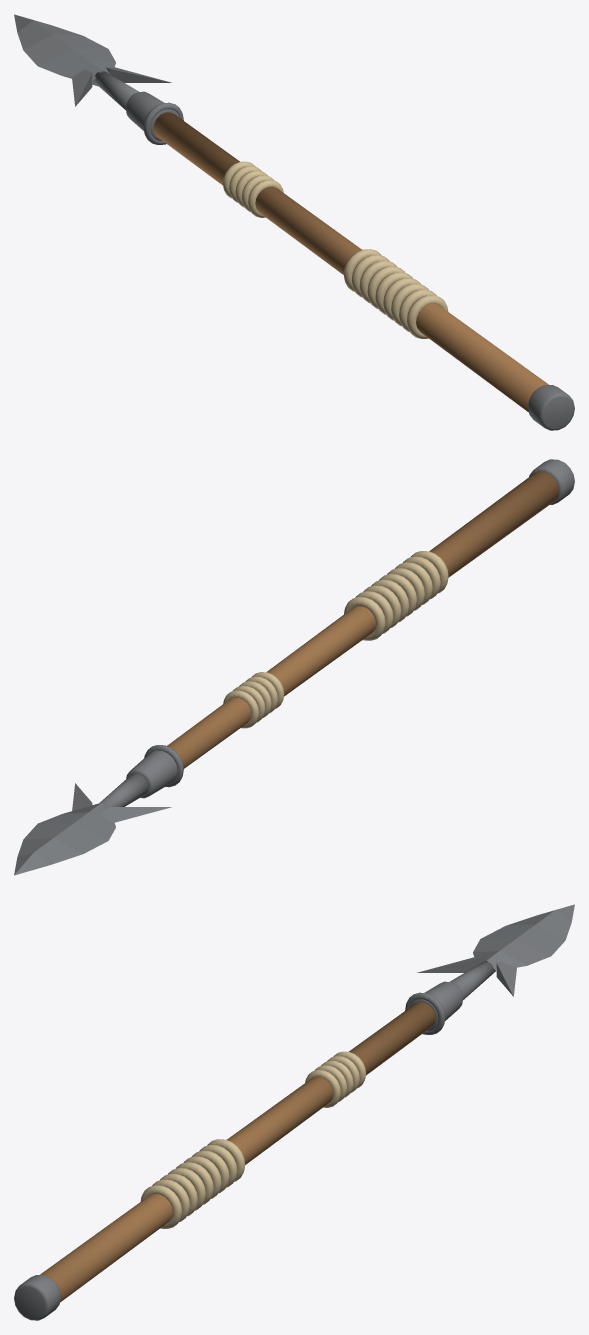
Rendered from Harpoon.fbx.
3 views of the same model, one above another, from view 1: azimuth 30°, elevation 25°; view 2: azimuth 150°, elevation 25°; view 3: azimuth 330°, elevation 25° (orthographic).
Parts seen in each view (by area): view 1: Harpoon_Wood, Harpoon_Metal, Harpoon_Rope; view 2: Harpoon_Wood, Harpoon_Metal, Harpoon_Rope; view 3: Harpoon_Wood, Harpoon_Metal, Harpoon_Rope.
Part boxes in pixels (x1,y1,x2,y2): Harpoon_Wood: [153, 112, 548, 412]; Harpoon_Metal: [14, 14, 574, 430]; Harpoon_Rope: [222, 161, 448, 338]; Harpoon_Wood: [167, 471, 559, 768]; Harpoon_Metal: [14, 459, 574, 875]; Harpoon_Rope: [223, 551, 448, 728]; Harpoon_Wood: [40, 1002, 435, 1302]; Harpoon_Metal: [14, 904, 574, 1320]; Harpoon_Rope: [140, 1051, 366, 1228].
Size of the model in its own units: 0.72 by 0.3 by 6.91.
